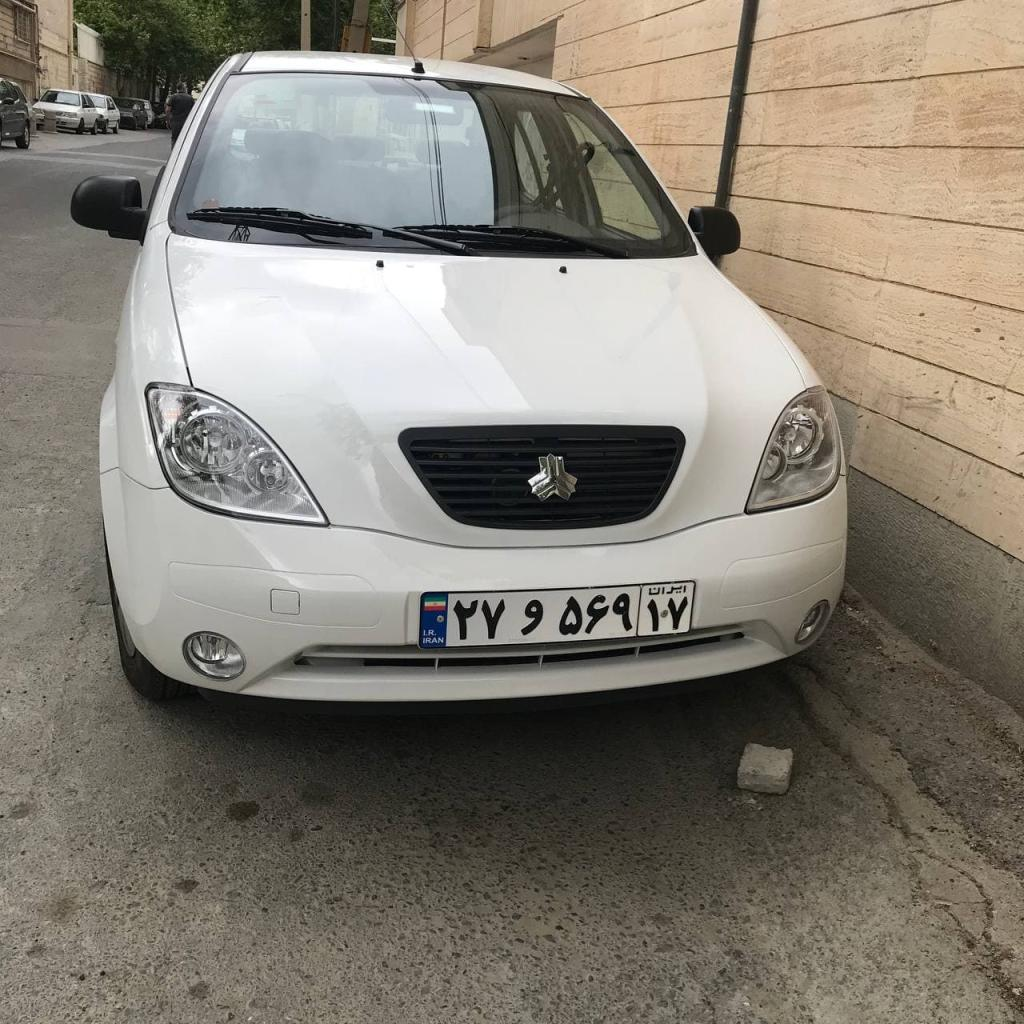Plates: (418, 582, 694, 648)
